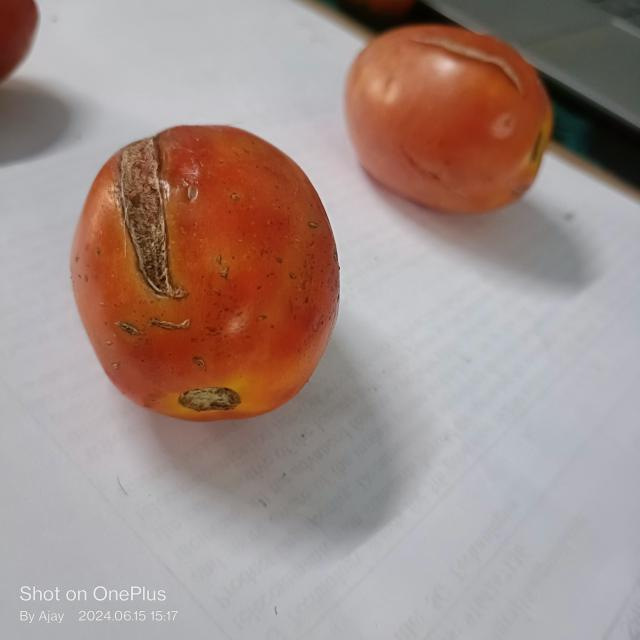tomato_cracking: (121, 128, 175, 296)
